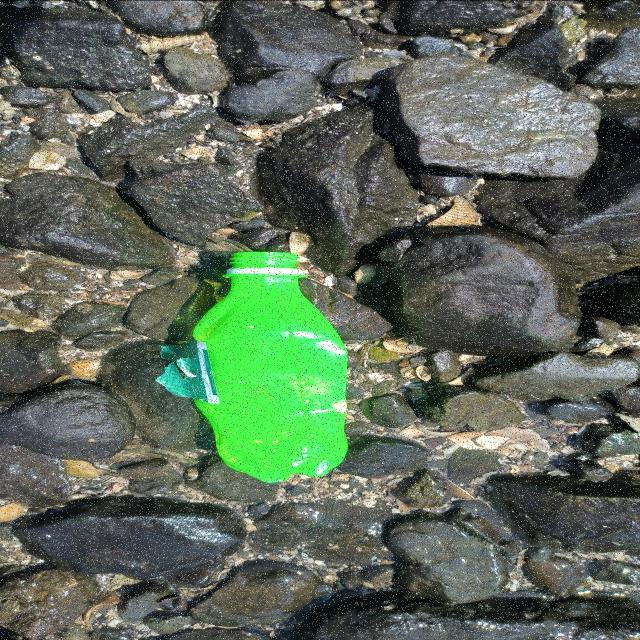plastic_waste: (192, 251, 350, 484)
